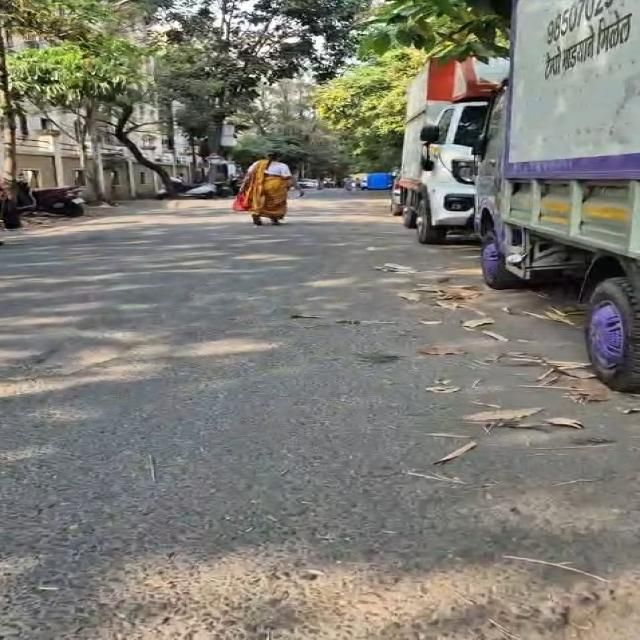bike: (243, 153, 293, 225), (33, 187, 84, 217)
